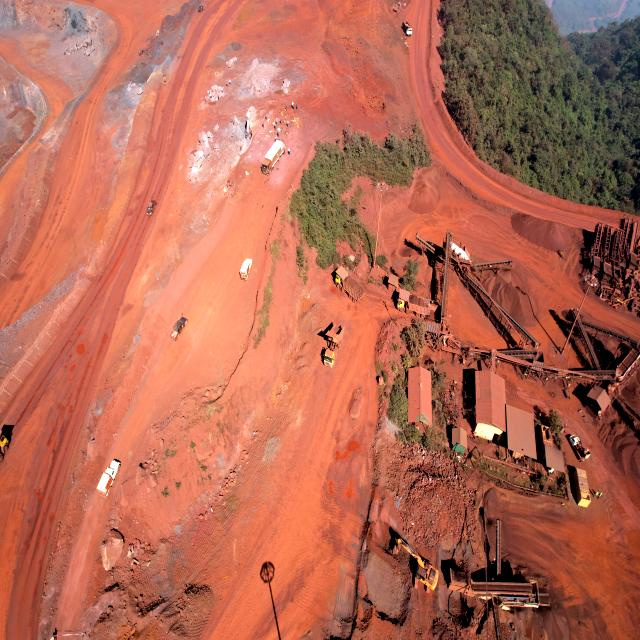Dumper truck: (322, 322, 345, 367), (334, 266, 362, 300), (396, 289, 428, 315), (0, 432, 10, 460), (402, 19, 413, 36)
Excavator: (392, 532, 439, 598)
car: (96, 459, 120, 501), (171, 314, 189, 340), (239, 257, 253, 283), (146, 197, 157, 216), (198, 4, 205, 12)
person: (286, 120, 290, 128), (598, 492, 602, 499), (594, 491, 598, 498), (284, 104, 288, 111), (287, 148, 291, 154), (296, 102, 298, 108), (280, 118, 282, 124)
